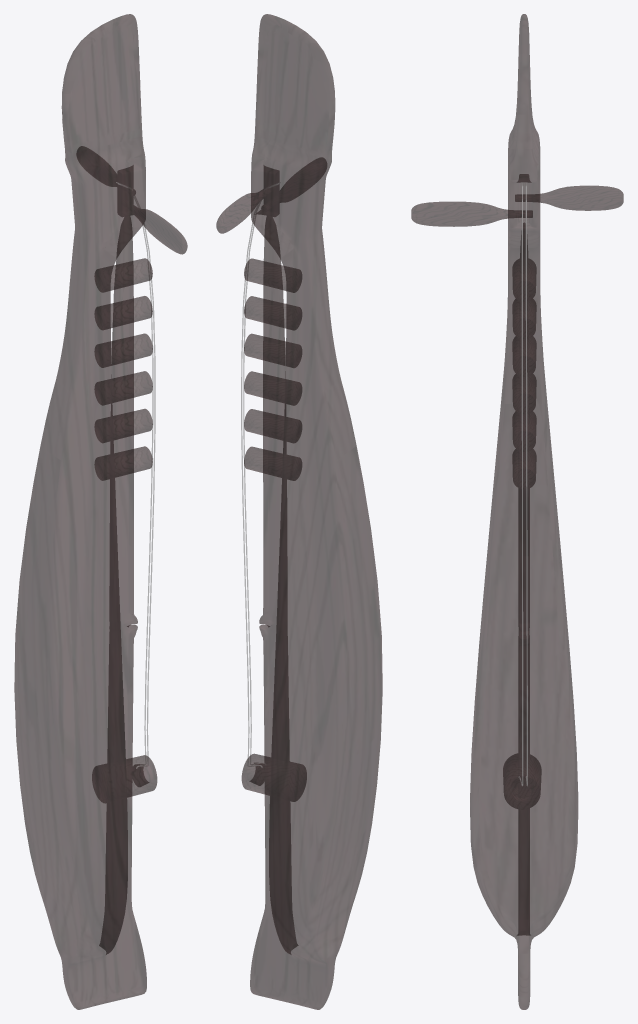
The model's file is kecapi-transformed.glb.
3 renders of one model, left to right at view 1: azimuth 30°, elevation 25°; view 2: azimuth 150°, elevation 25°; view 3: azimuth 270°, elevation 25°, orthographic.
Visible parts, largest first — view 1: Cube, Cylinder.002, BezierCurve.001; view 2: Cube, Cylinder.002, BezierCurve.001; view 3: Cube, Cylinder.002, BezierCurve.001.
Part boxes in pixels (box(x1,y1,x2,y2)): Cube: box(14, 14, 146, 1009); Cylinder.002: box(76, 146, 187, 803); BezierCurve.001: box(116, 182, 155, 768); Cube: box(250, 14, 382, 1009); Cylinder.002: box(216, 157, 326, 801); BezierCurve.001: box(241, 182, 280, 767); Cube: box(470, 14, 578, 1009); Cylinder.002: box(411, 185, 623, 809); BezierCurve.001: box(518, 183, 527, 785).
Size of the model in its own units: 0.2015 by 1.55 by 0.3034.
Materials: 2 (1 with a texture image).
